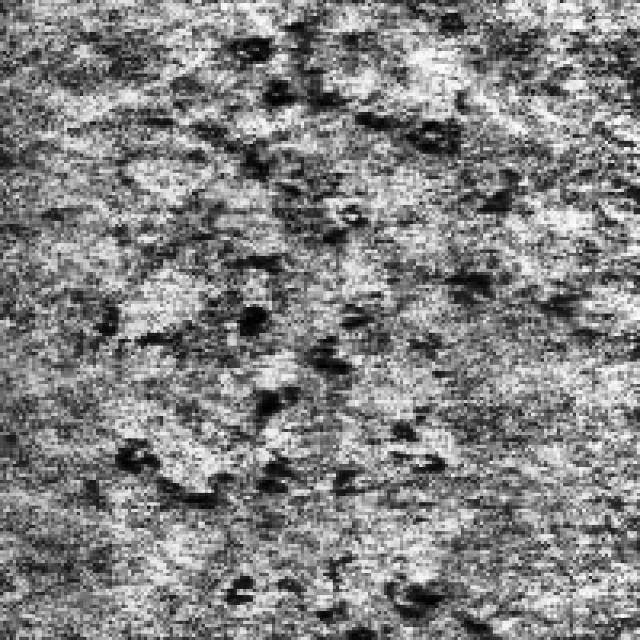Crazing: (182, 80, 410, 611)
